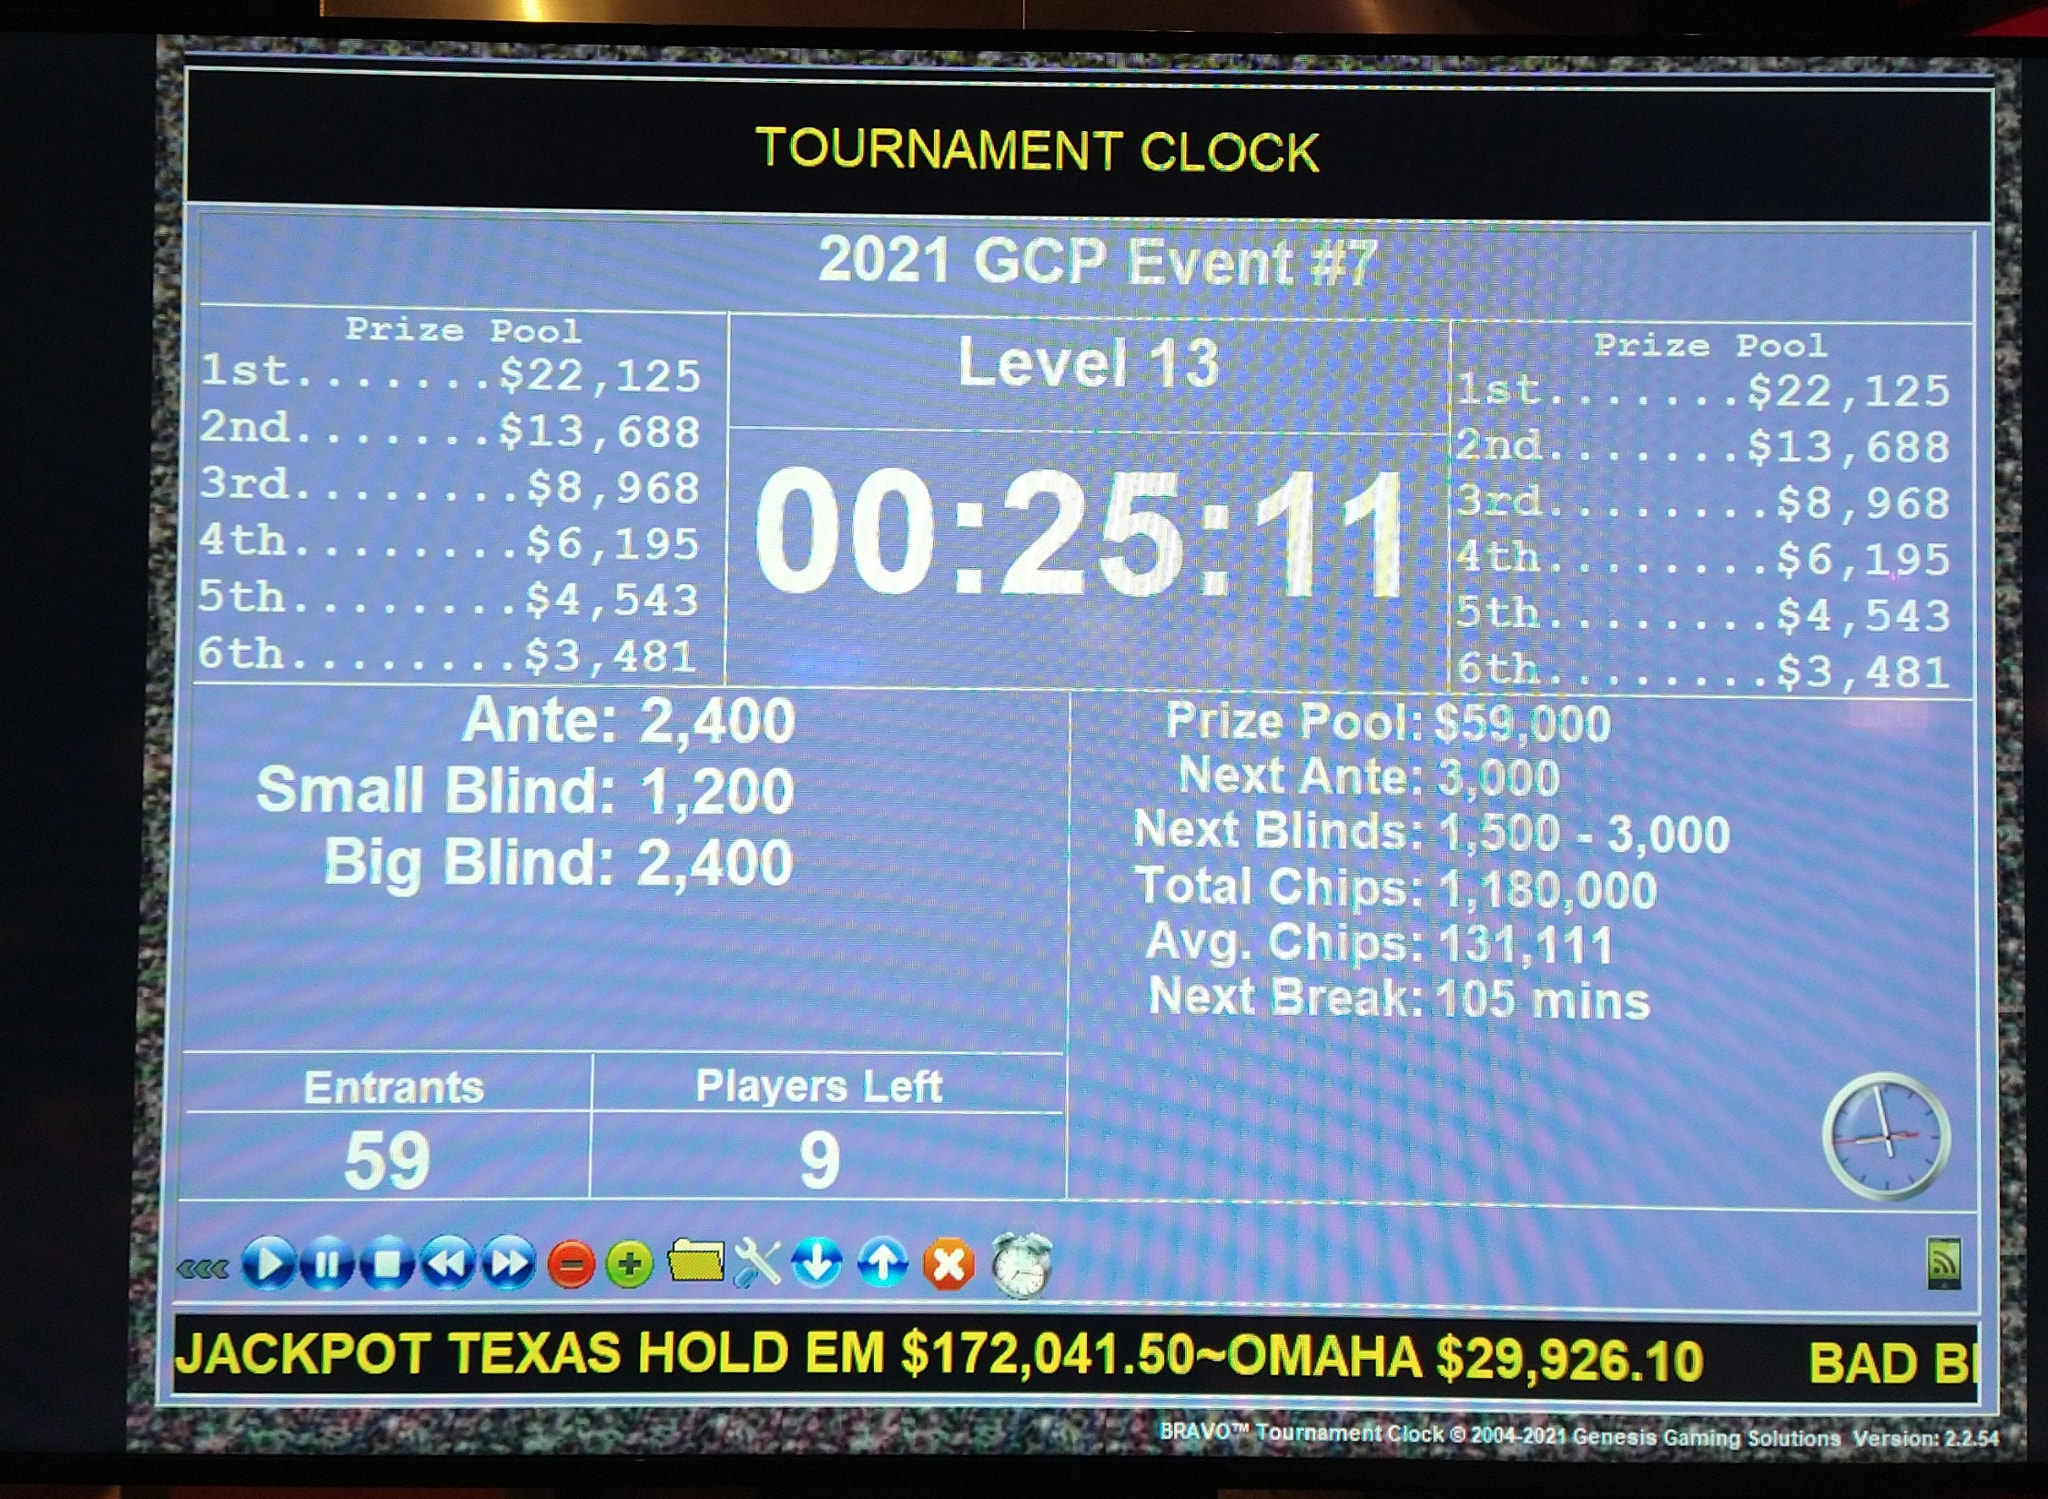PlayersLeft: (588, 1047, 1069, 1199)
Remaining: (175, 296, 732, 690), (1443, 314, 1978, 707)
TournamentClock: (173, 204, 1985, 1223)
